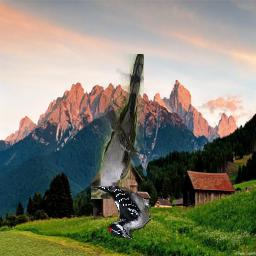Cuckoo: (92, 55, 145, 200)
Woodpecker: (91, 187, 151, 240)
